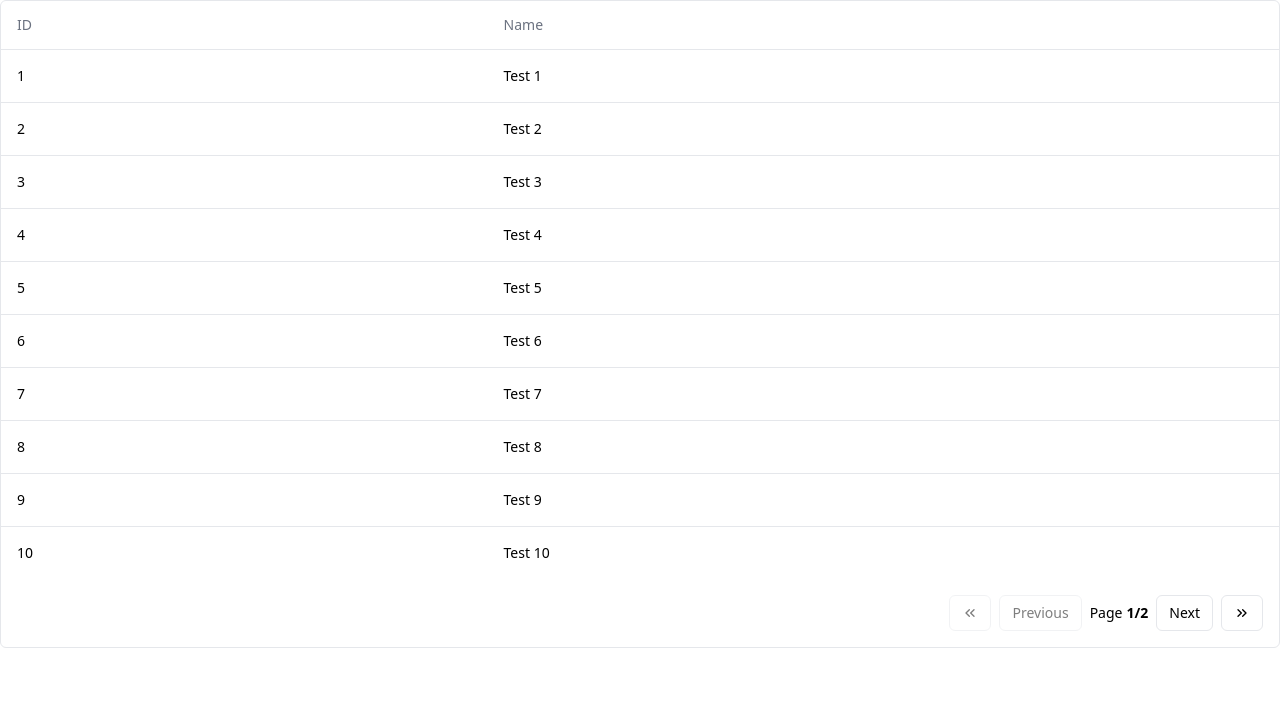
Test case: DataTable › displays correct page number after navigating
Expected: the text "1/2" is shown, [1126,602,1148,622]
Click the button "Next" at (1185, 612), box [1156,594,1213,630]
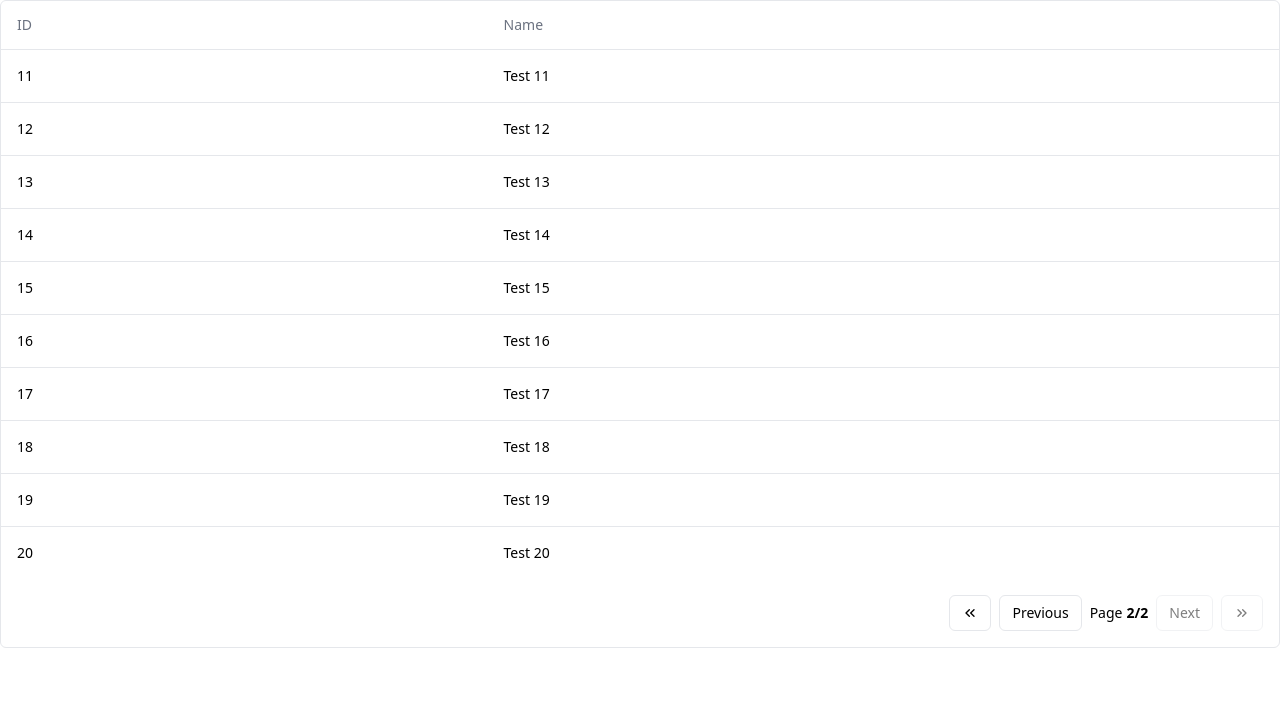
Expected: the text "2/2" is shown, [1126,602,1148,622]
